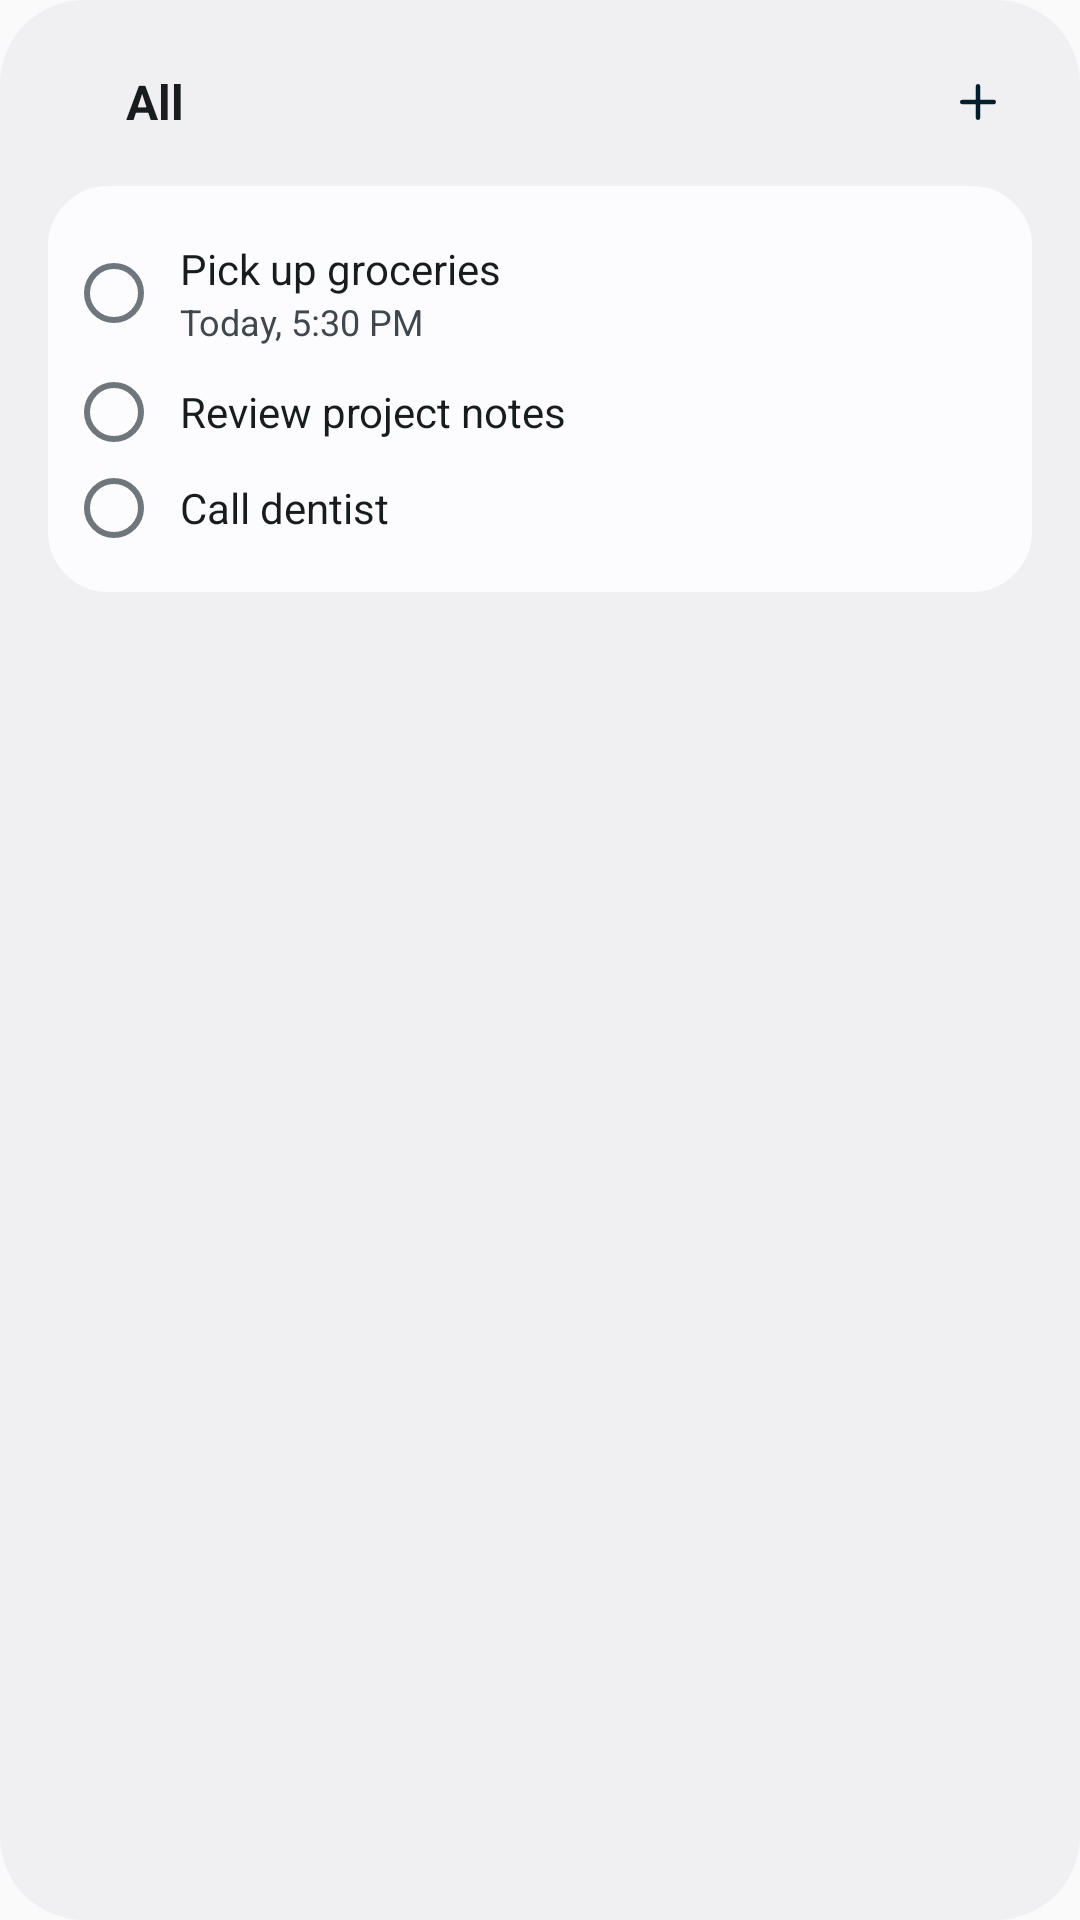

Named icons in this screenshot (1080w x 1920h) and their bounding boxes, (x1, y1, x2, y2):
add: (960, 84, 996, 120)
widget checkbox ring: (84, 263, 144, 323), (84, 382, 144, 442), (84, 478, 144, 538)
